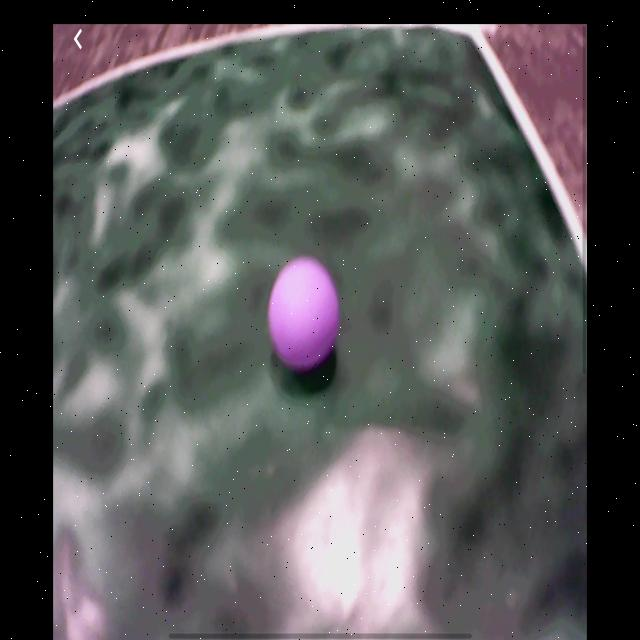ball: (268, 255, 341, 374)
